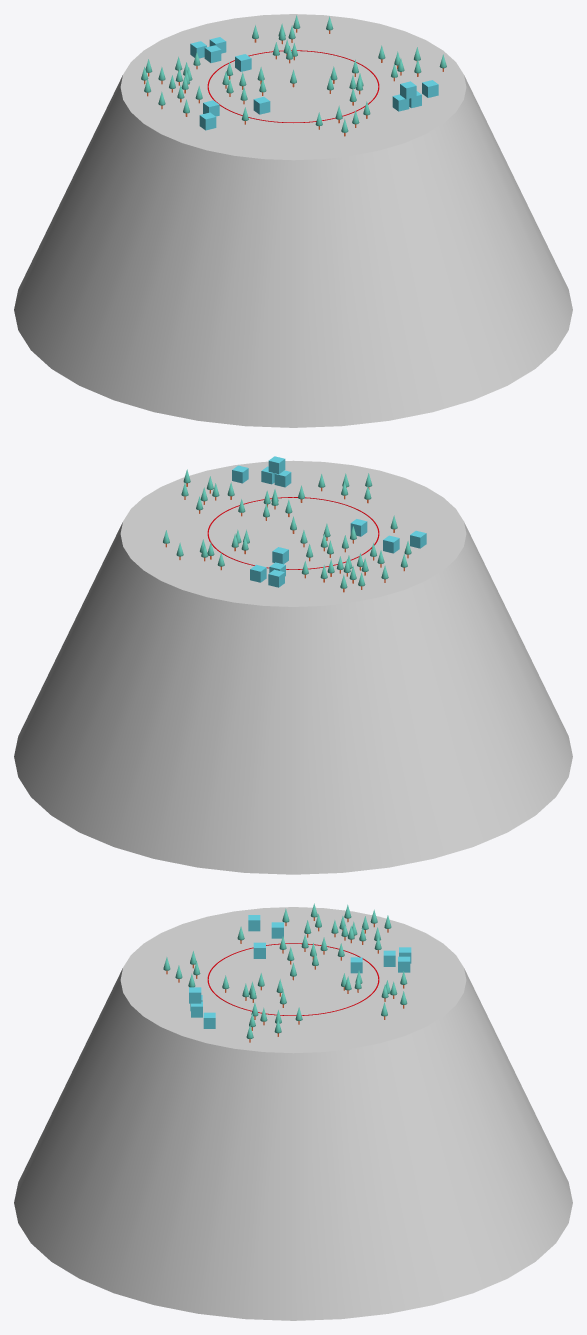
The picture shows the model from 3 angles, top to bottom: view 1: azimuth 30°, elevation 25°; view 2: azimuth 150°, elevation 25°; view 3: azimuth 270°, elevation 25°; orthographic projection.
Parts seen in each view (by area): view 1: mount; view 2: mount; view 3: mount.
Part boxes in pixels (x1=…): mount: x1=14, y1=14, x2=572, y2=427; mount: x1=14, y1=460, x2=572, y2=874; mount: x1=14, y1=907, x2=572, y2=1320.
Size of the model in its own units: 45.86 by 22.17 by 45.86.
